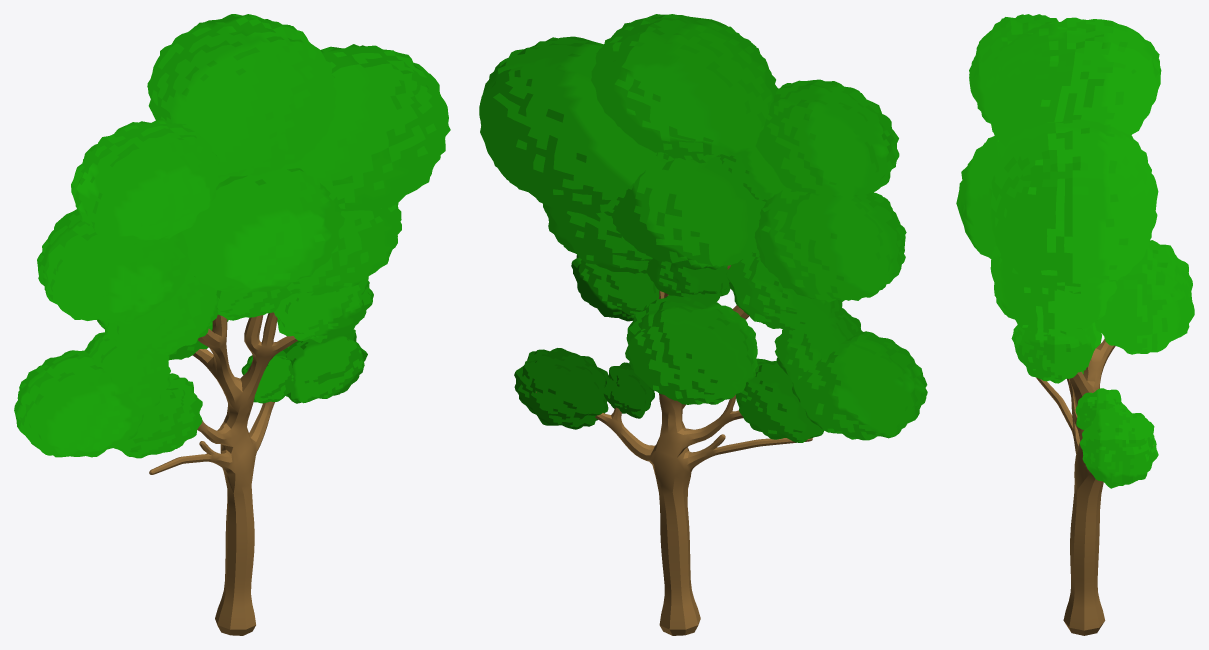
File: tree.fbx
The picture shows the model from 3 angles, left to right: view 1: azimuth 30°, elevation 25°; view 2: azimuth 150°, elevation 25°; view 3: azimuth 270°, elevation 25°; orthographic projection.
Visible parts, largest first — view 1: Cube.011, Plane; view 2: Cube.011, Plane; view 3: Cube.011, Plane.
Boxes of the visible parts, x1=… form: Cube.011: x1=14, y1=14, x2=450, y2=458; Plane: x1=149, y1=312, x2=297, y2=635; Cube.011: x1=479, y1=14, x2=927, y2=442; Plane: x1=536, y1=265, x2=812, y2=635; Cube.011: x1=956, y1=14, x2=1194, y2=488; Plane: x1=1036, y1=338, x2=1153, y2=635.
Bounding box in the file's own units: 1293 × 1755 × 628.
